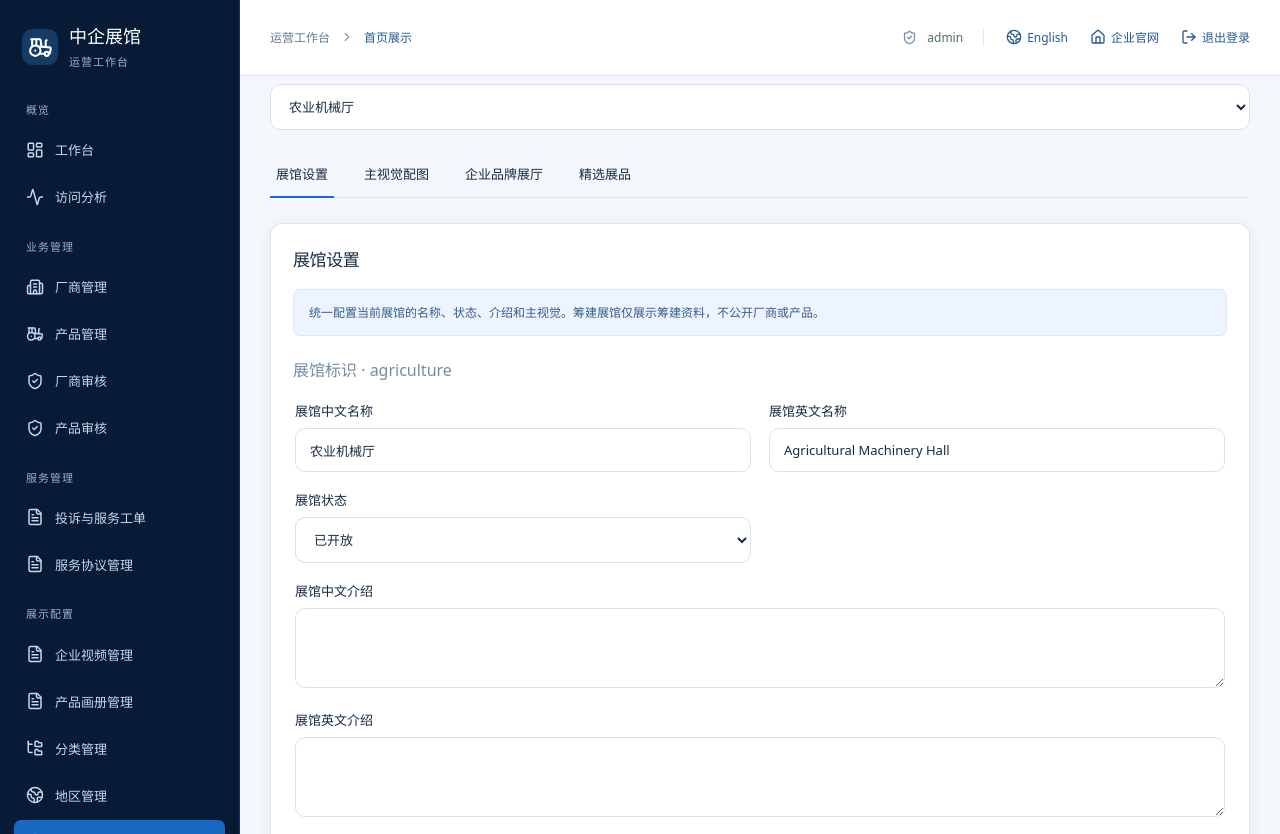
it: retains an unsaved hall form on conflict and requires an explicit reload before saving again
(page scrolled)
Replace the text in the field labelled "展馆中文名称" with "本地未保存输入": {"x": 523, "y": 450} [295, 428, 751, 472]
(page scrolled)
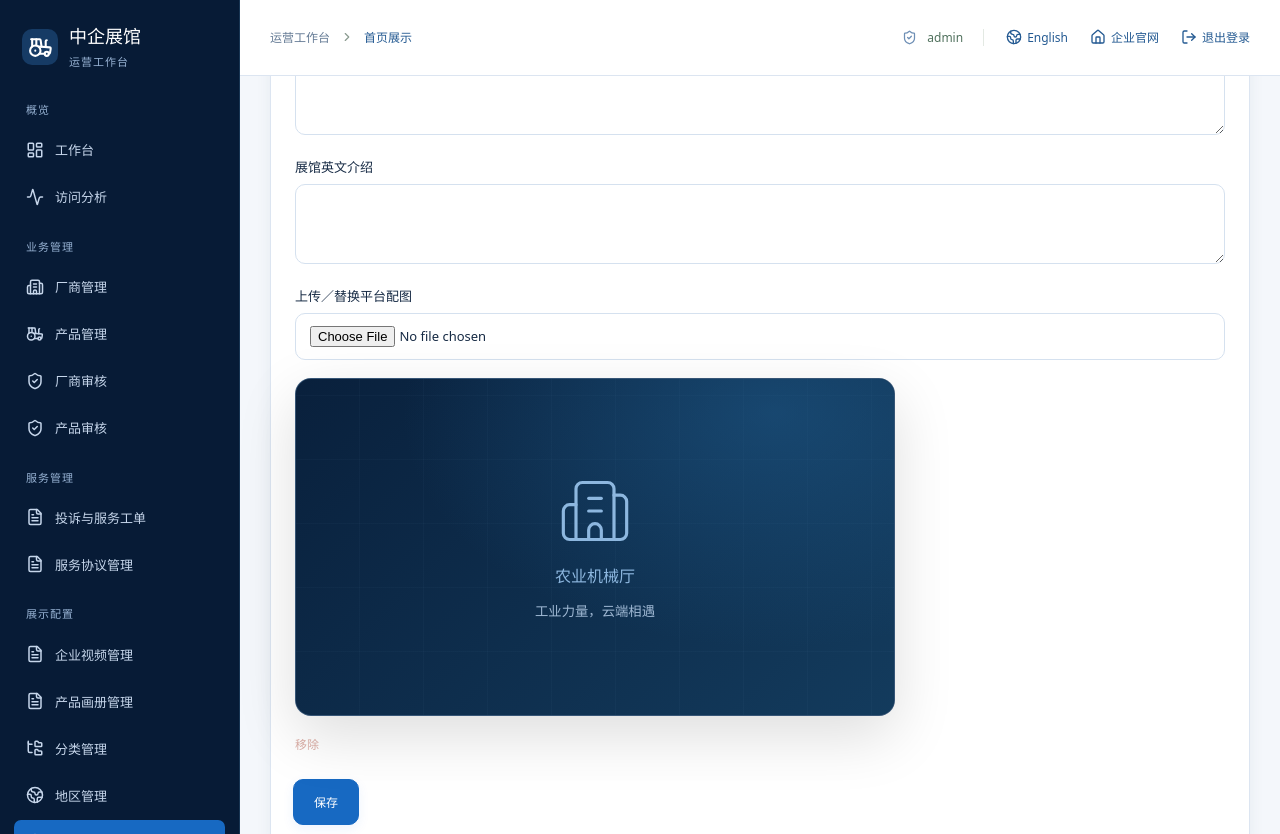
Click the button "保存": {"x": 326, "y": 802} [293, 779, 359, 825]
(page scrolled)
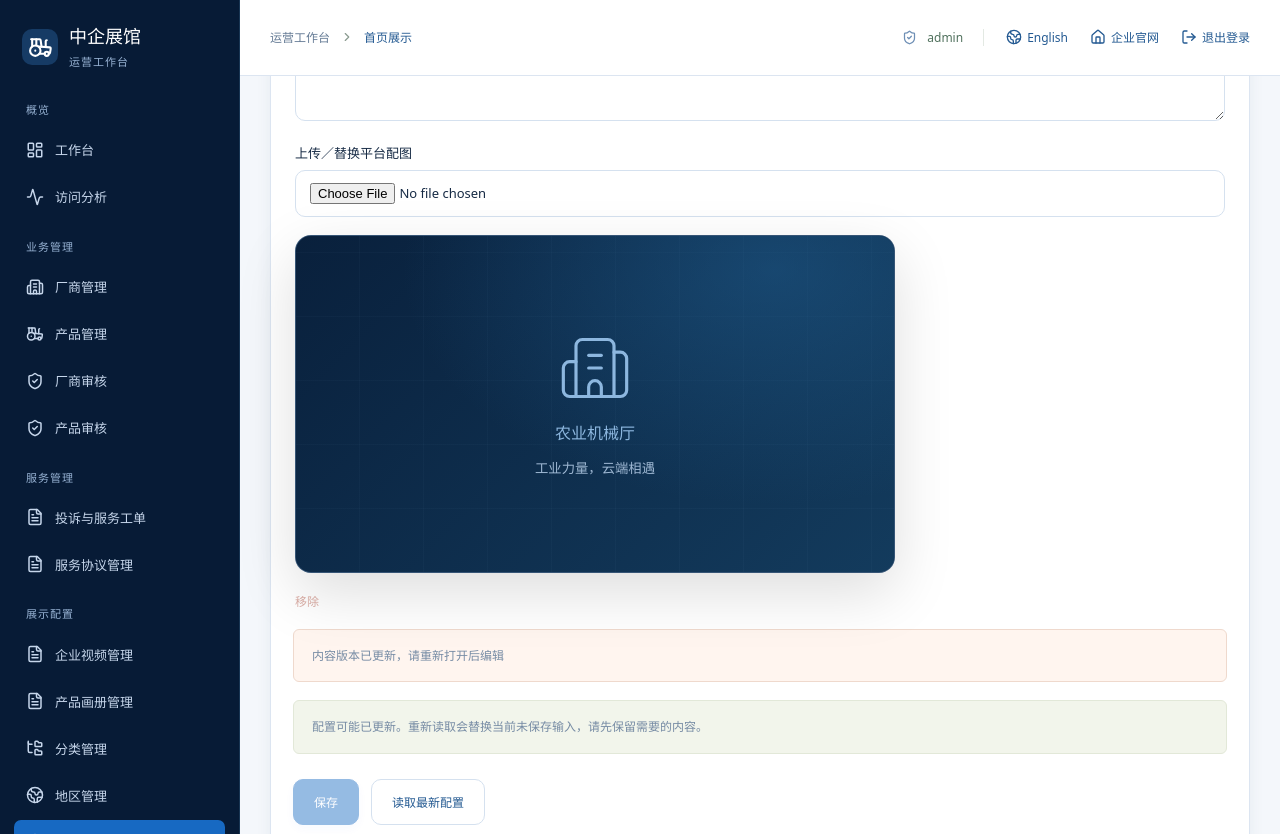
Expected: the button "保存" is disabled, [293, 779, 359, 825]
Click the button "读取最新配置": {"x": 428, "y": 802} [371, 779, 485, 825]
(page scrolled)
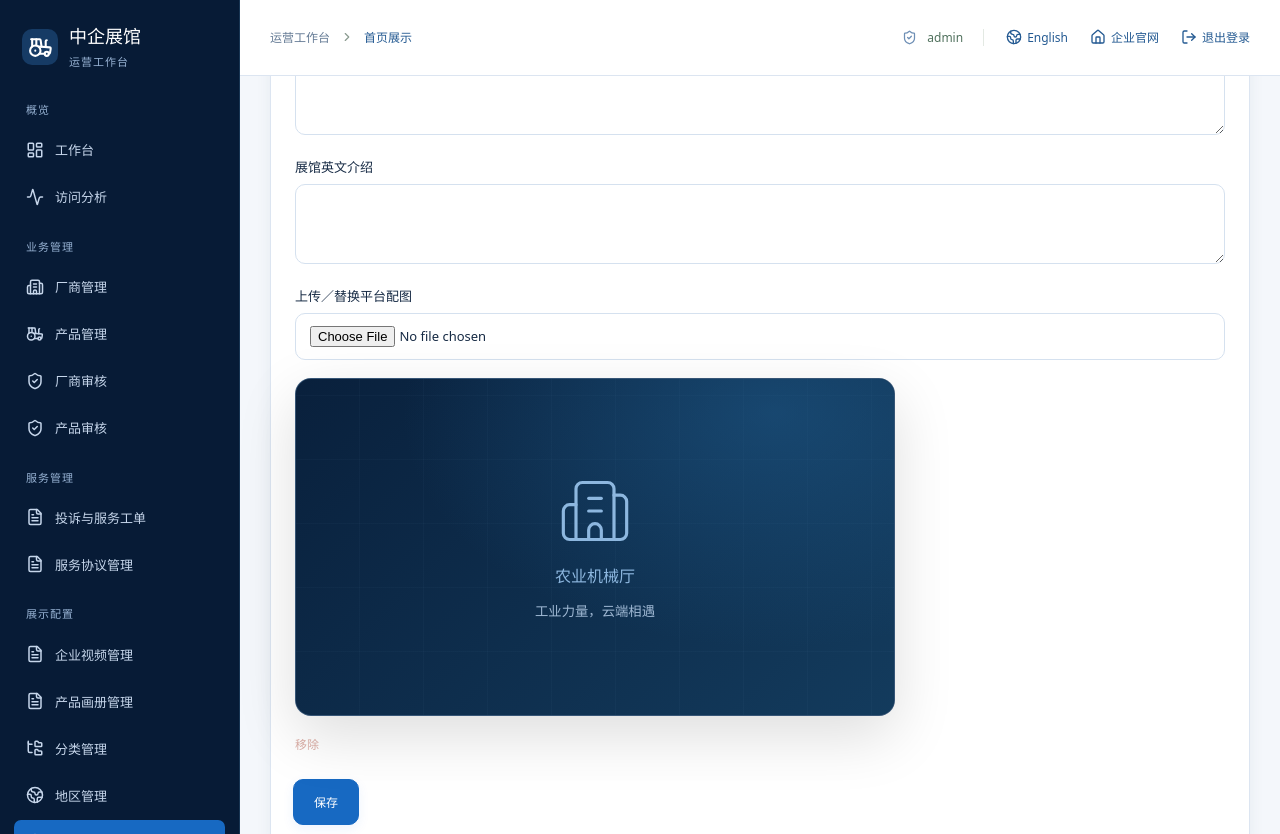
Click the button "保存": {"x": 326, "y": 802} [293, 779, 359, 825]
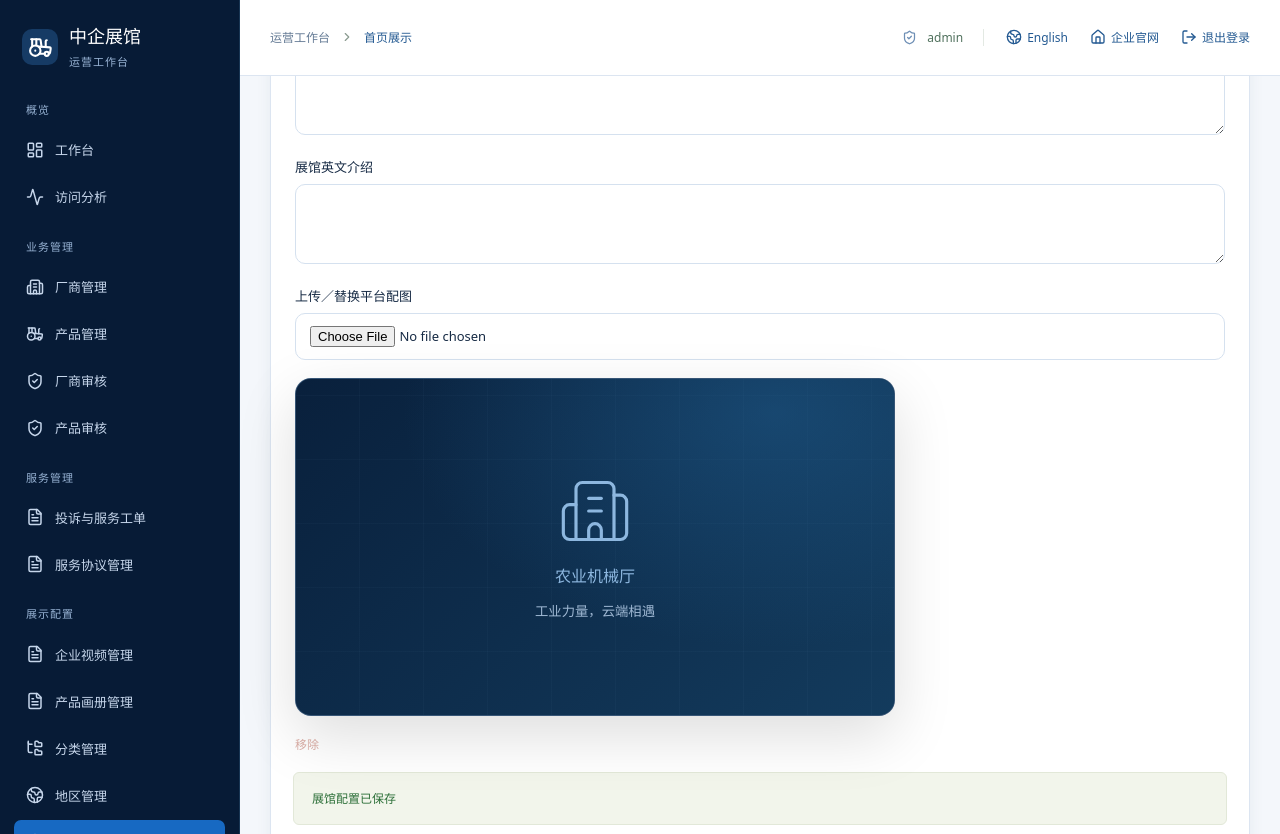
Expected: the text "展馆配置已保存" is shown, [293, 772, 1227, 825]
